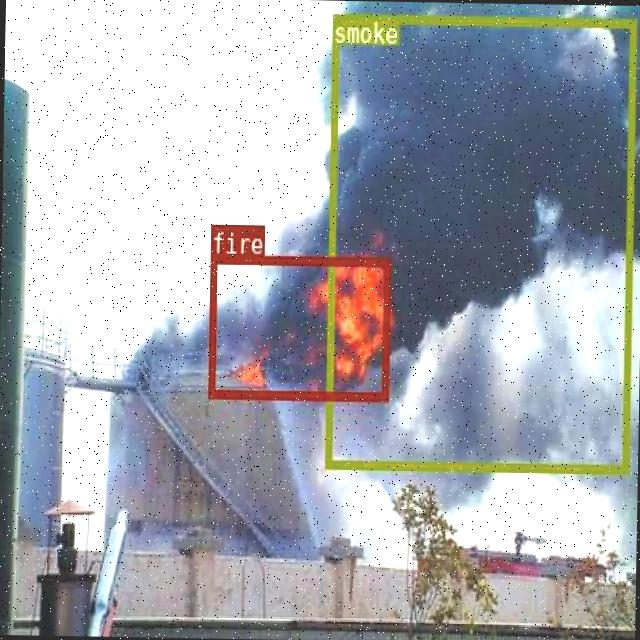fire: (208, 254, 390, 399)
smoke: (324, 12, 634, 472)
